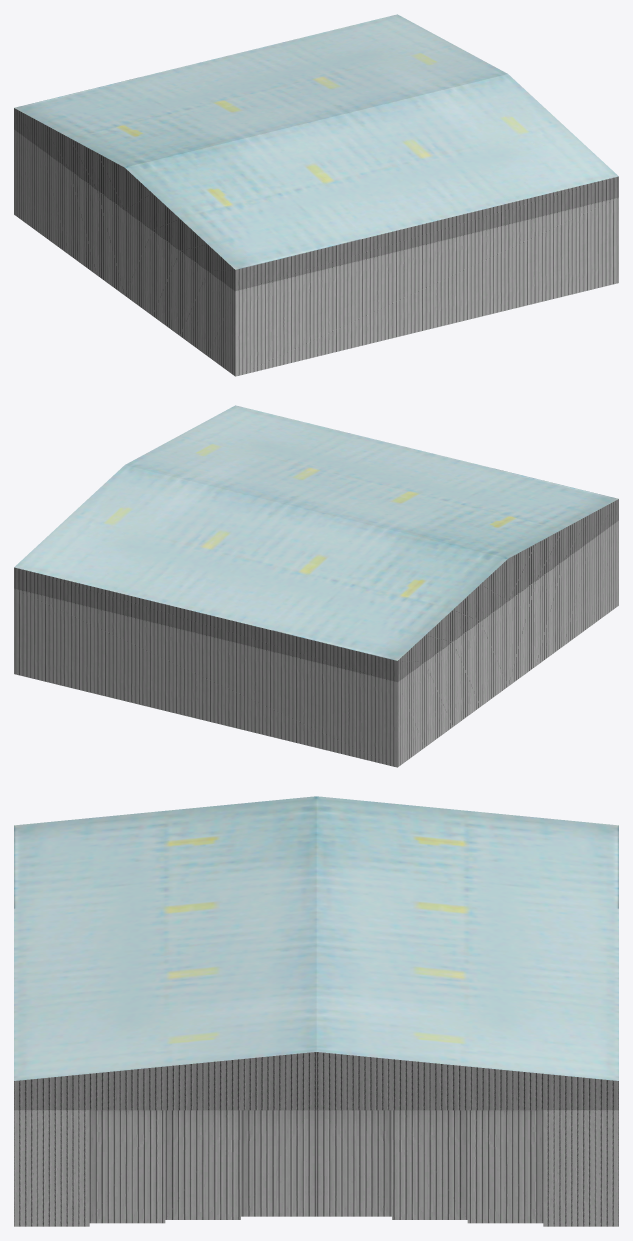
Rendered from Hangar6.gltf.
The picture shows the model from 3 angles, top to bottom: view 1: azimuth 30°, elevation 25°; view 2: azimuth 150°, elevation 25°; view 3: azimuth 270°, elevation 25°; orthographic projection. The views are drawn at different scales.
Visible parts, largest first — view 1: Hangar6; view 2: Hangar6; view 3: Hangar6.
Part boxes in pixels (<box>): Hangar6: <box>14,14,618,376</box>; Hangar6: <box>14,405,618,767</box>; Hangar6: <box>14,796,618,1226</box>.
Size of the model in its own units: 37.64 by 12 by 37.64.
Materials: 1 (1 with a texture image).
